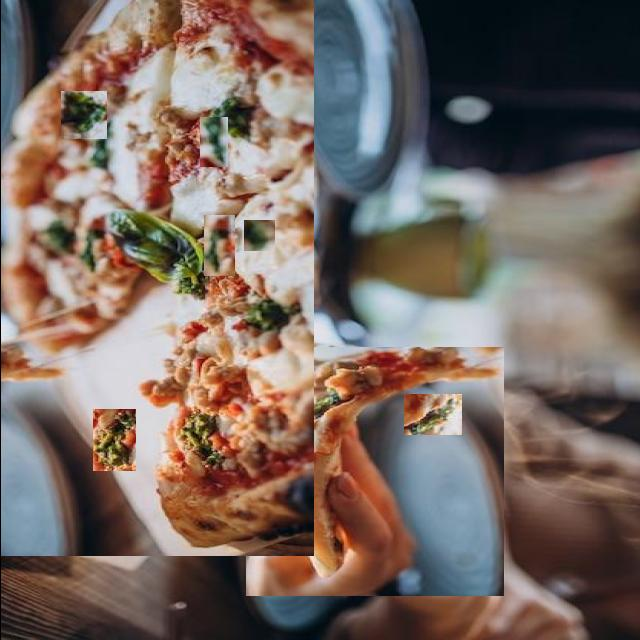basil: (102, 204, 208, 298), (9, 289, 76, 340), (90, 409, 134, 471), (403, 394, 461, 435), (60, 91, 106, 139), (203, 215, 234, 276), (199, 117, 227, 167), (243, 220, 274, 251)
pizza: (0, 0, 313, 556), (245, 347, 503, 596)
